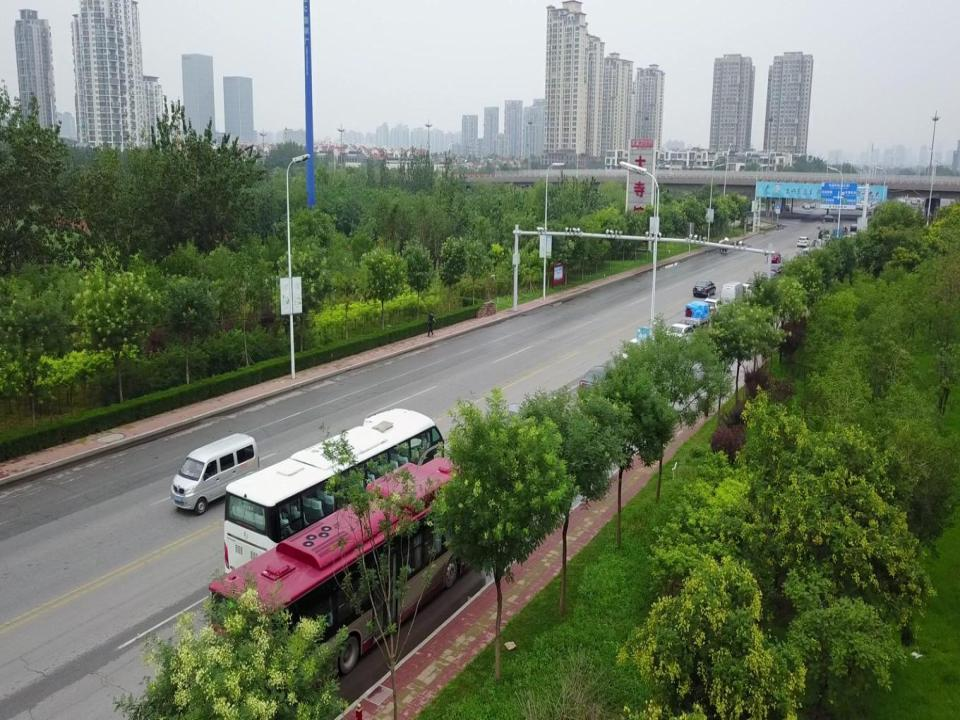bus: (210, 455, 492, 688), (224, 408, 444, 576)
car: (579, 365, 615, 392), (664, 324, 698, 345), (682, 303, 709, 329), (722, 282, 743, 310), (741, 278, 761, 302), (694, 278, 716, 298), (765, 250, 784, 272), (706, 295, 726, 315), (820, 212, 839, 224), (799, 233, 809, 246), (850, 221, 859, 230)
van: (170, 433, 261, 514)
